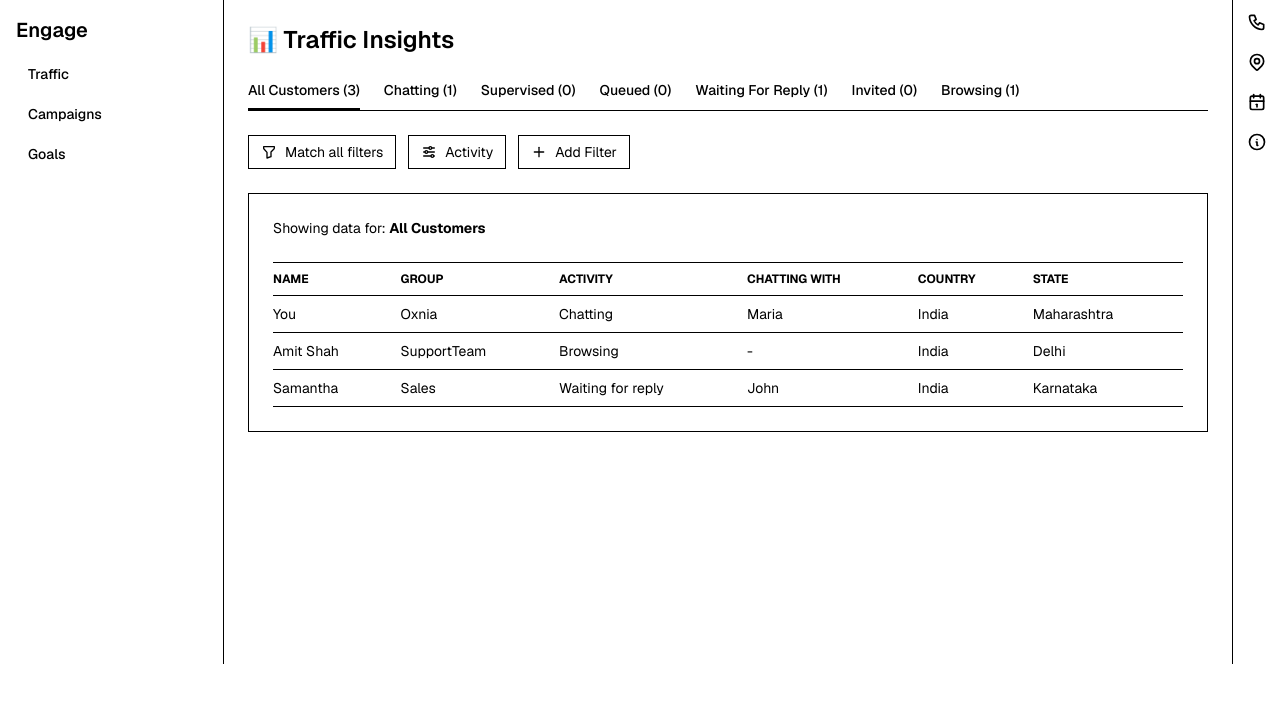
Scenario: EngagePage › switches to the campaigns view
Click the button "campaigns": (112, 114) [16,96,207,132]
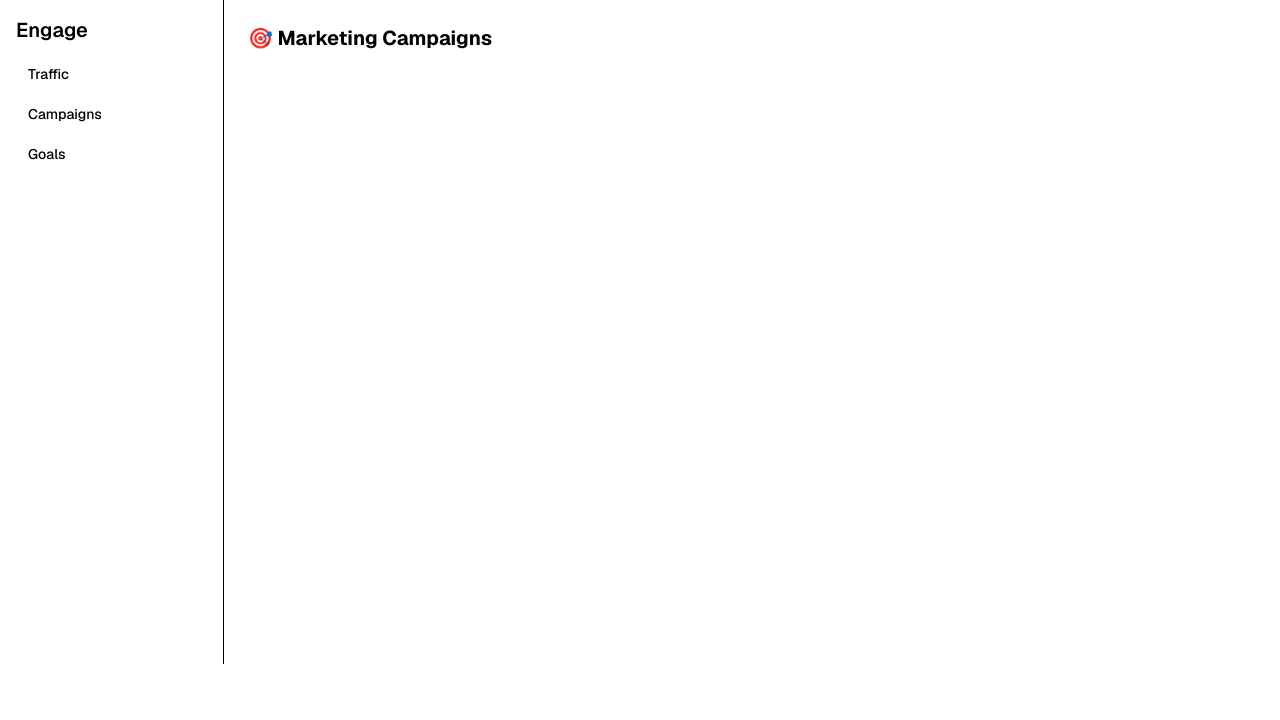
Now the text "🎯 Marketing Campaigns" is shown, box [248,25,492,51]
Now the heading "📊 Traffic Insights" is gone
